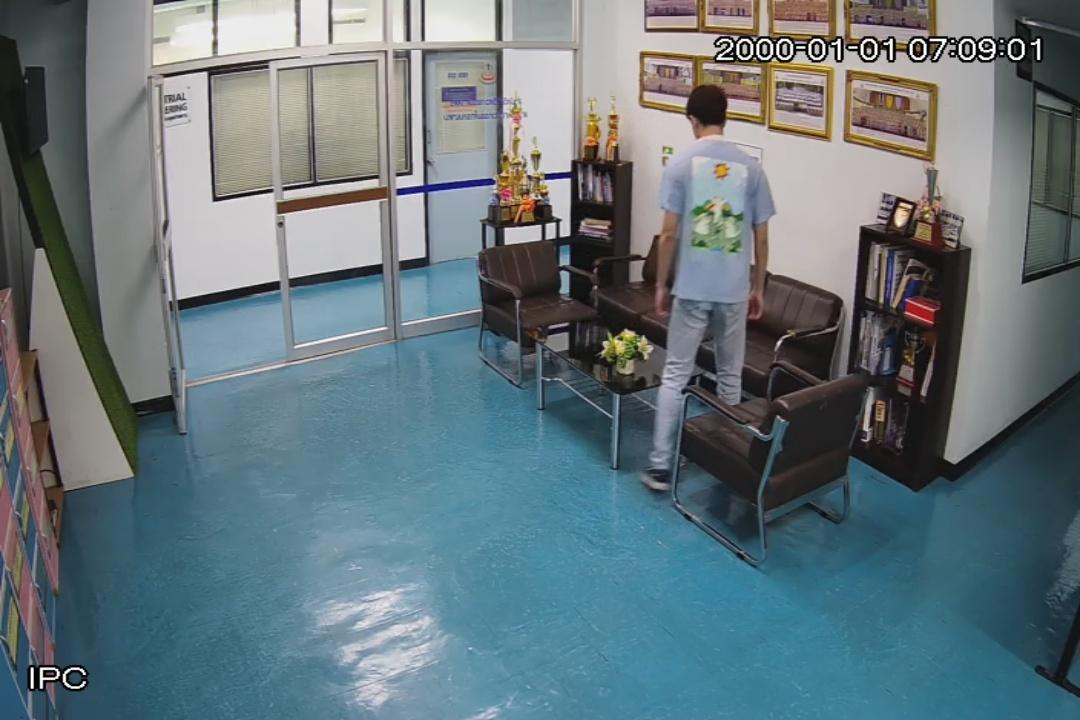normal: (642, 85, 773, 493)
